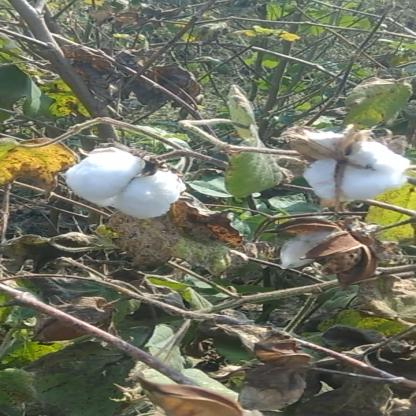cotton_ready: (295, 119, 411, 212), (53, 143, 192, 210)
